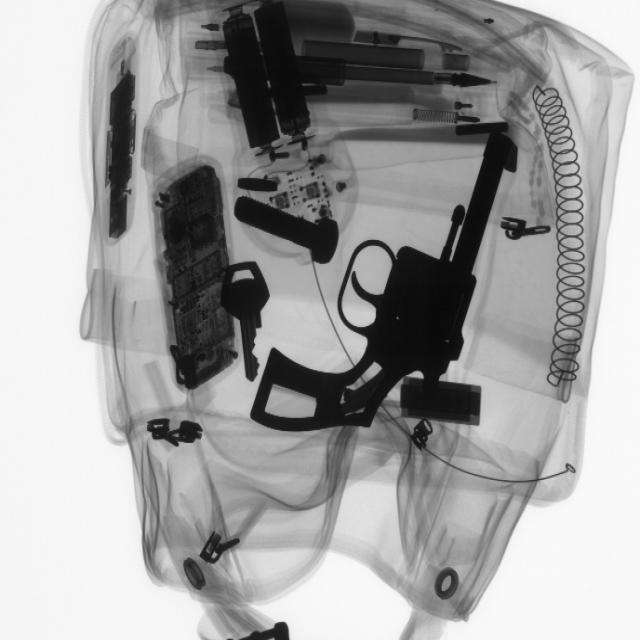GUN: (250, 127, 514, 434)
